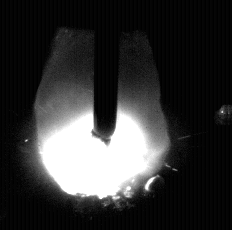arame: (94, 0, 119, 146)
poca: (37, 0, 171, 230)
